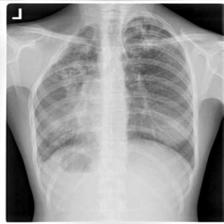tuberculosis: (29, 10, 203, 204)
